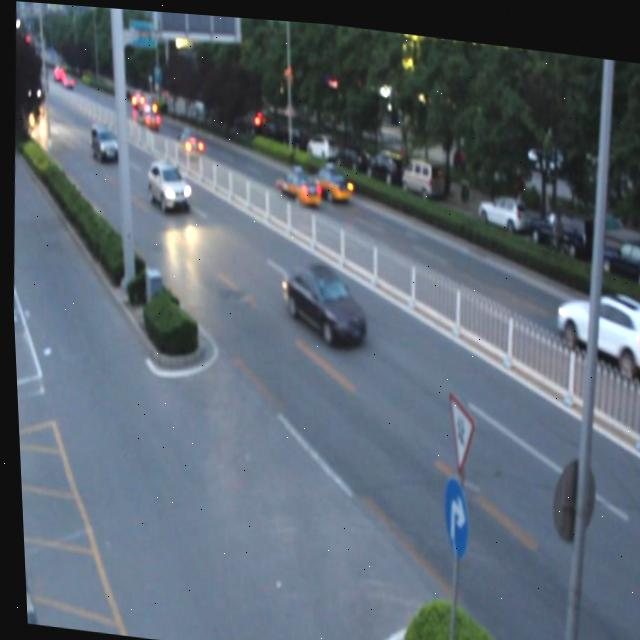car: (278, 253, 365, 343), (551, 276, 640, 363), (143, 154, 191, 212), (273, 162, 321, 205), (307, 156, 352, 201), (88, 121, 120, 164), (173, 127, 203, 158)
